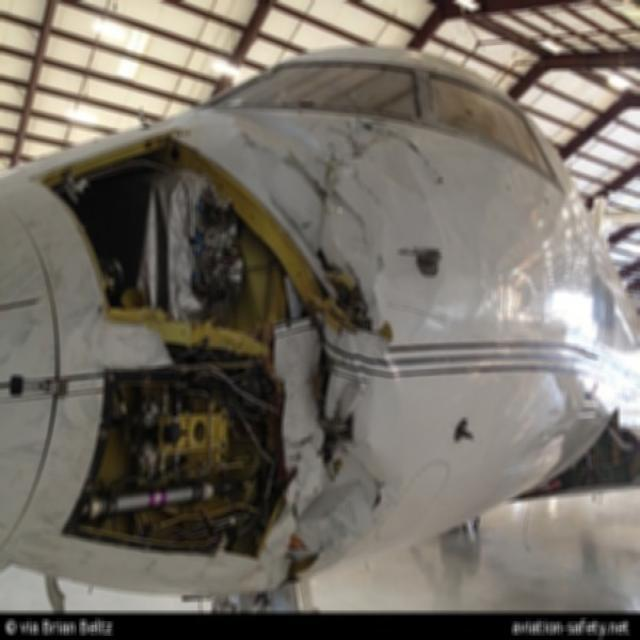crack: (363, 123, 446, 187), (348, 447, 393, 515)
